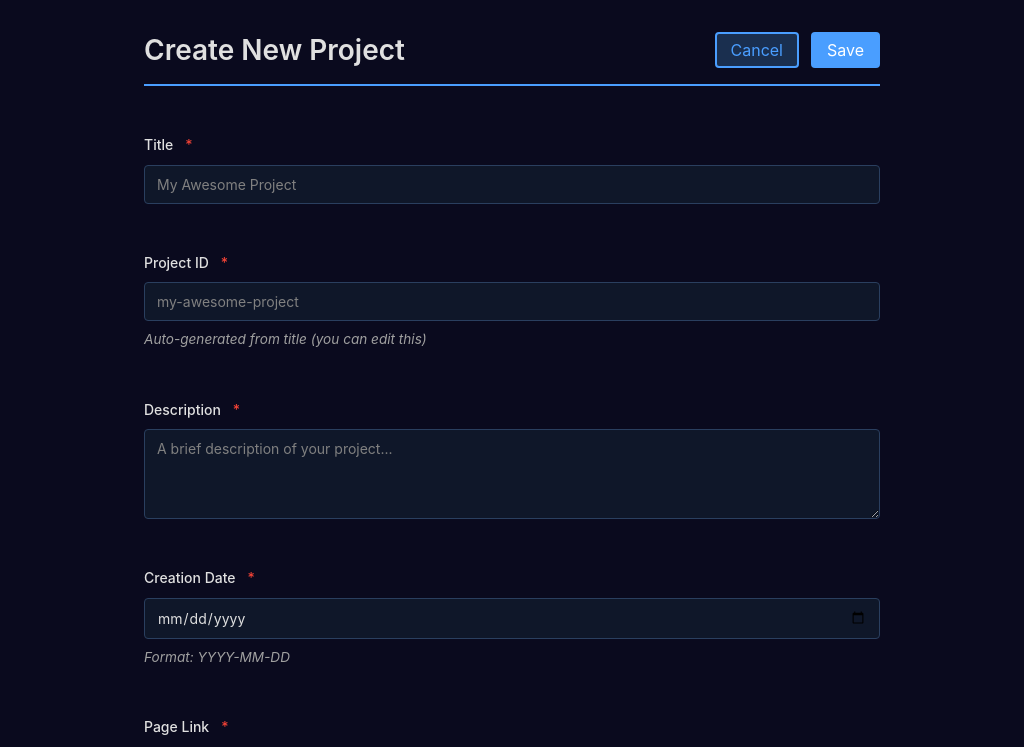
ProjectForm › Validation › should validate date format
// Clear and type an invalid date (date input will reject invalid formats)
Type "invalid-date" into the date field labelled "Creation Date" at {"x": 512, "y": 618}, box [144,598,880,639]
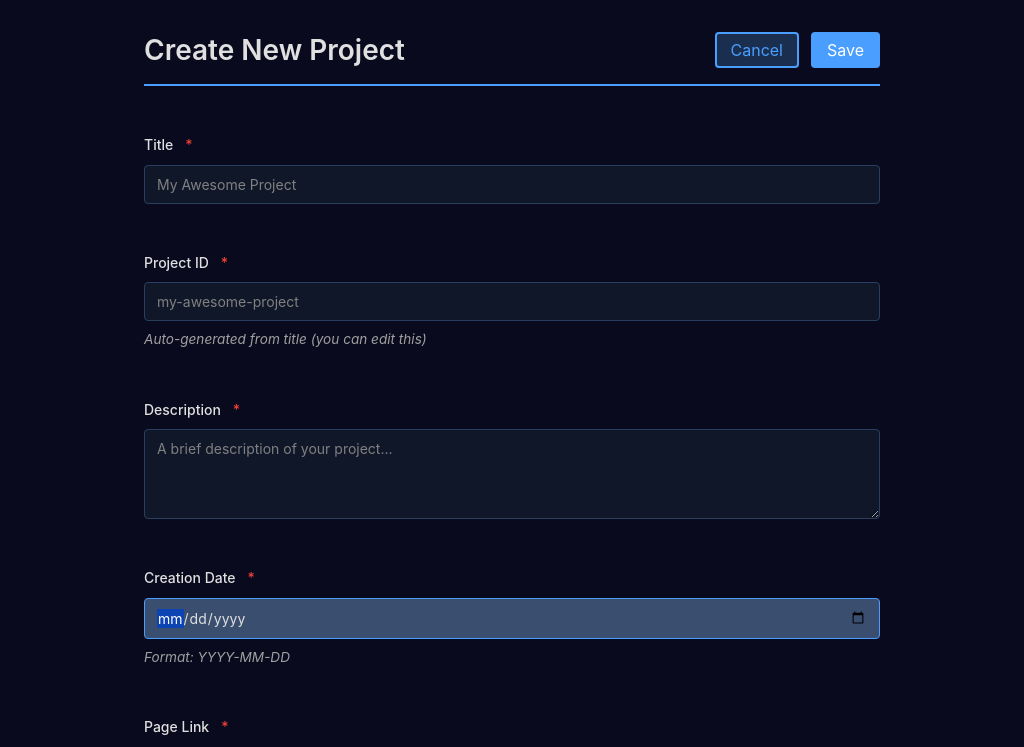
Press Tab
(page scrolled)
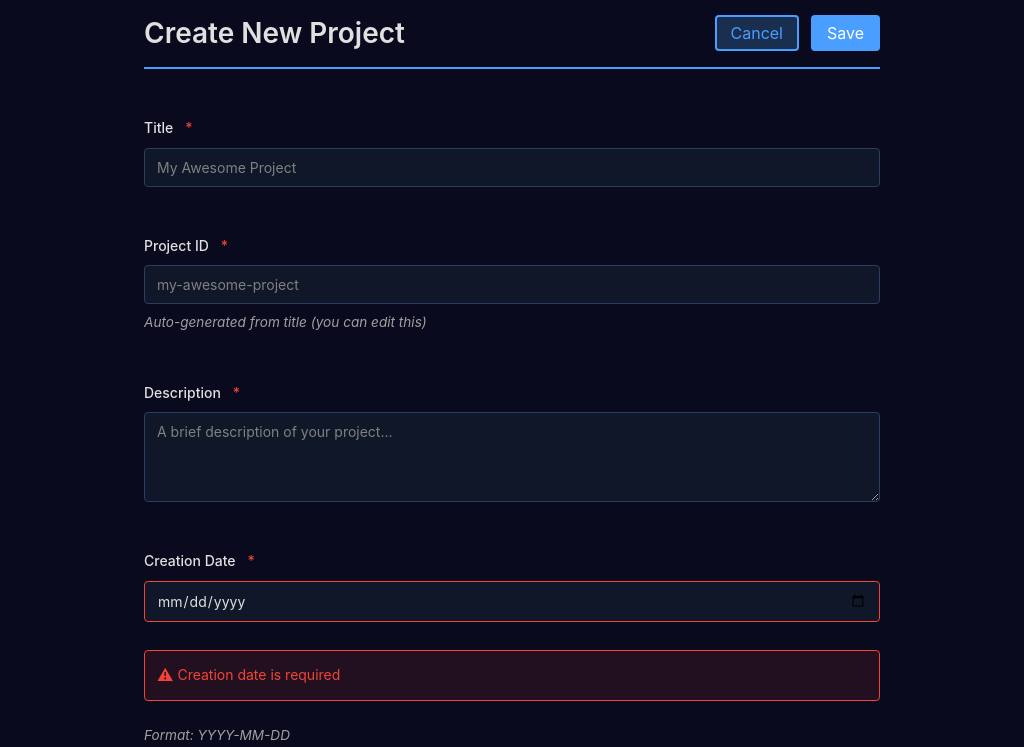
Result: the text "Creation date is required" is shown at [144,650,880,701]
